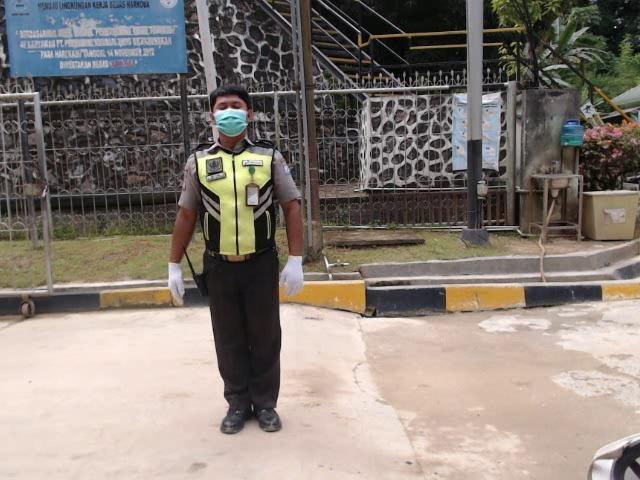helmet: (580, 423, 640, 480)
